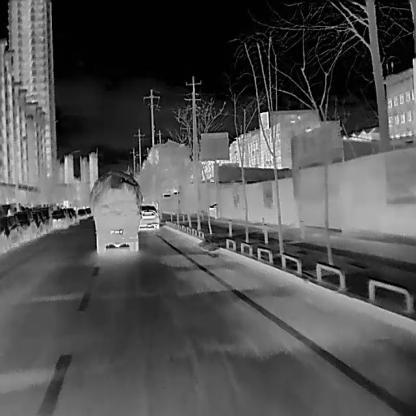car: (87, 168, 143, 255), (0, 214, 22, 250), (14, 209, 37, 243), (137, 203, 159, 230), (51, 208, 70, 229), (40, 206, 53, 233), (207, 202, 218, 219), (76, 208, 88, 219), (84, 206, 92, 216)
